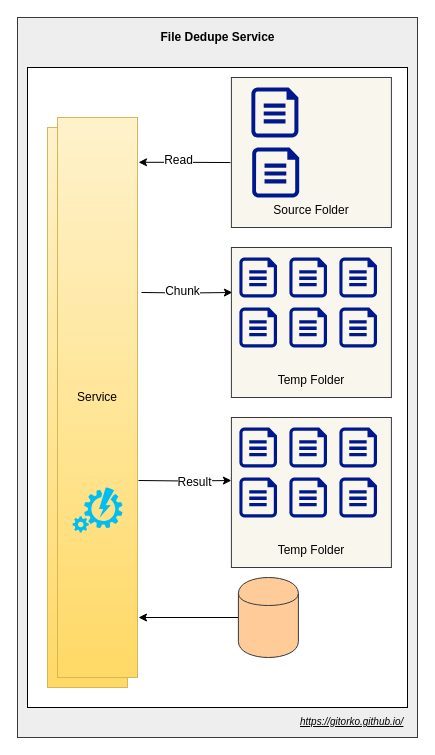
The diagram is 435 pixels wide and 755 high, and some of its shapes have lost their labels. Here are the shapes that lost their labels. From the top down, the box of each, then its label:
(72, 487, 122, 532): Bloom Filter
(237, 576, 298, 658): State DB
